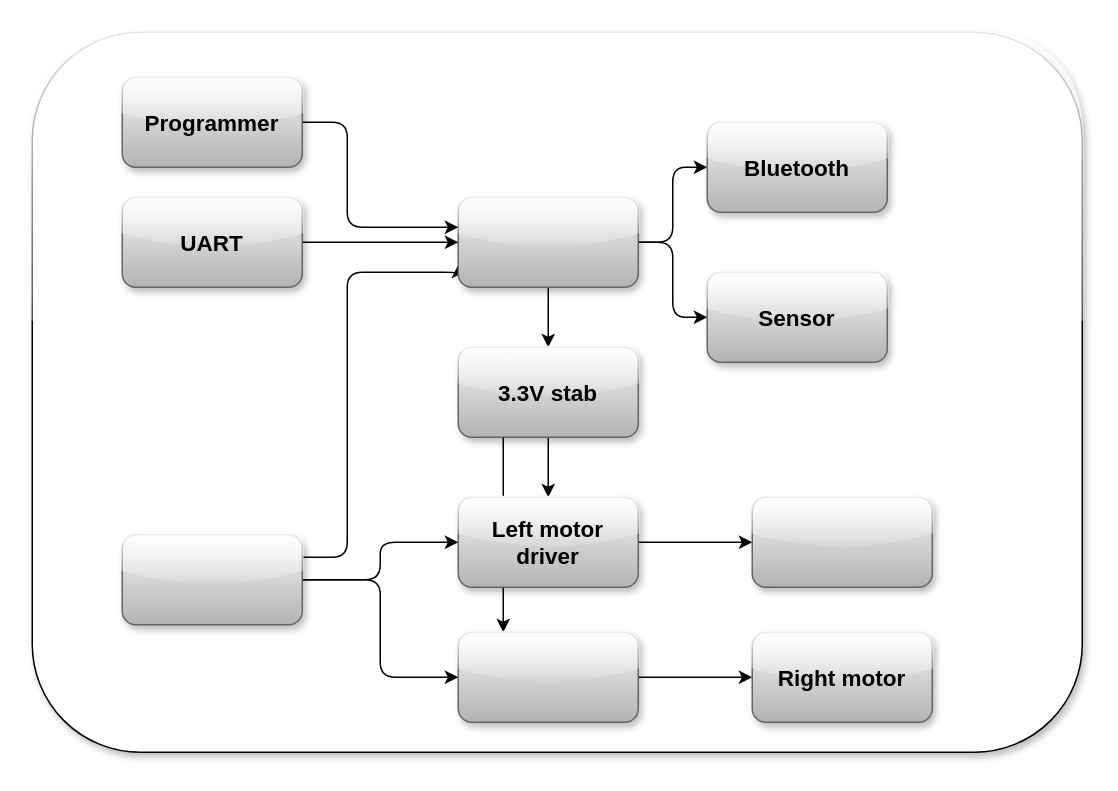
This 1118x791 diagram has some shape labels left out. The centre of each missing label's shape, as x and y in pixels:
"5V stab" belongs at [549,244].
"Battery" belongs at [213,581].
"Left motor" belongs at [843,544].
"Right motor driver" belongs at [549,679].
